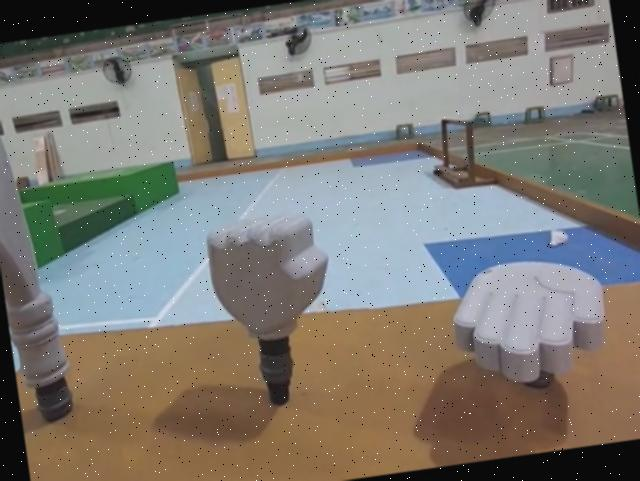Fist: (203, 208, 348, 412)
Hand: (442, 245, 613, 413)
Sph: (0, 58, 81, 430)
